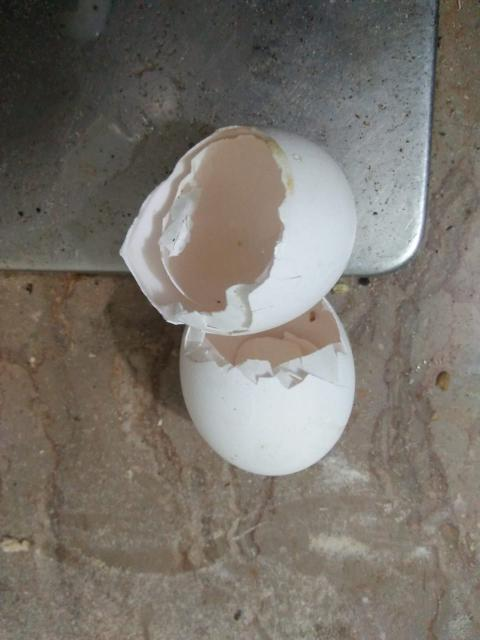Roto: (118, 121, 357, 334), (181, 294, 356, 479)
